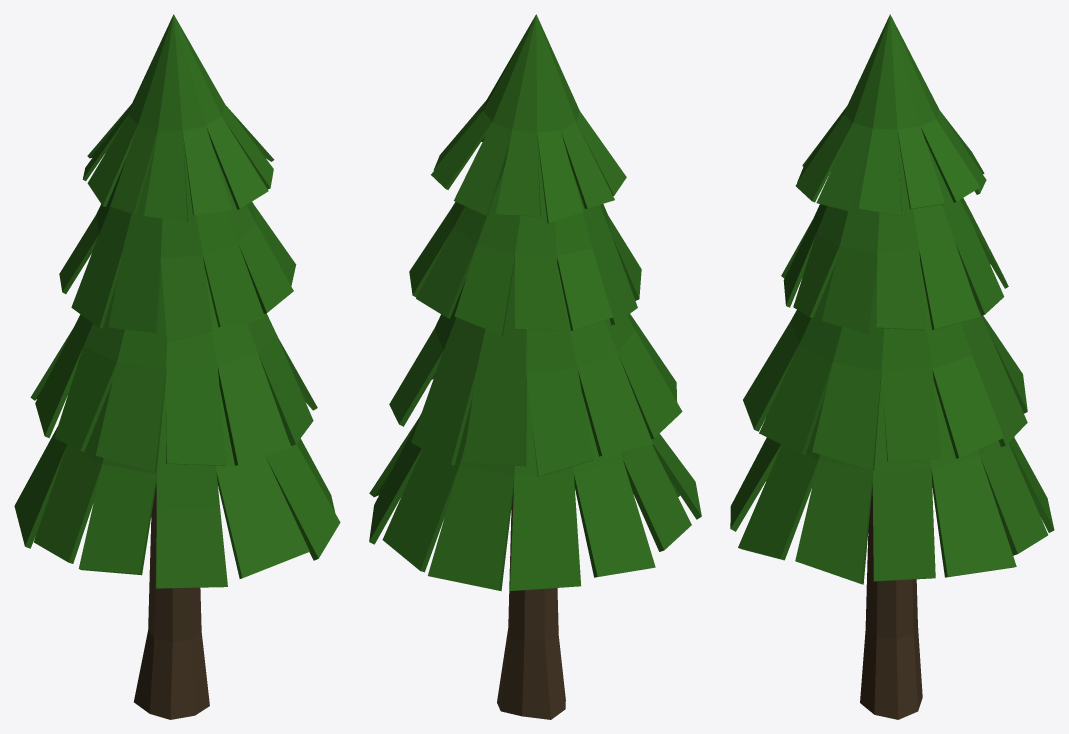
Rendered from elk.fbx.
The picture shows the model from 3 angles, left to right: view 1: azimuth 30°, elevation 25°; view 2: azimuth 150°, elevation 25°; view 3: azimuth 270°, elevation 25°; orthographic projection.
Parts seen in each view (by area): view 1: Tree2; view 2: Tree2; view 3: Tree2.
Boxes of the visible parts, x1=… form: Tree2: x1=14, y1=14, x2=340, y2=719; Tree2: x1=369, y1=14, x2=701, y2=719; Tree2: x1=730, y1=14, x2=1054, y2=719.
Bounding box in the file's own units: 722 × 1722 × 734.
